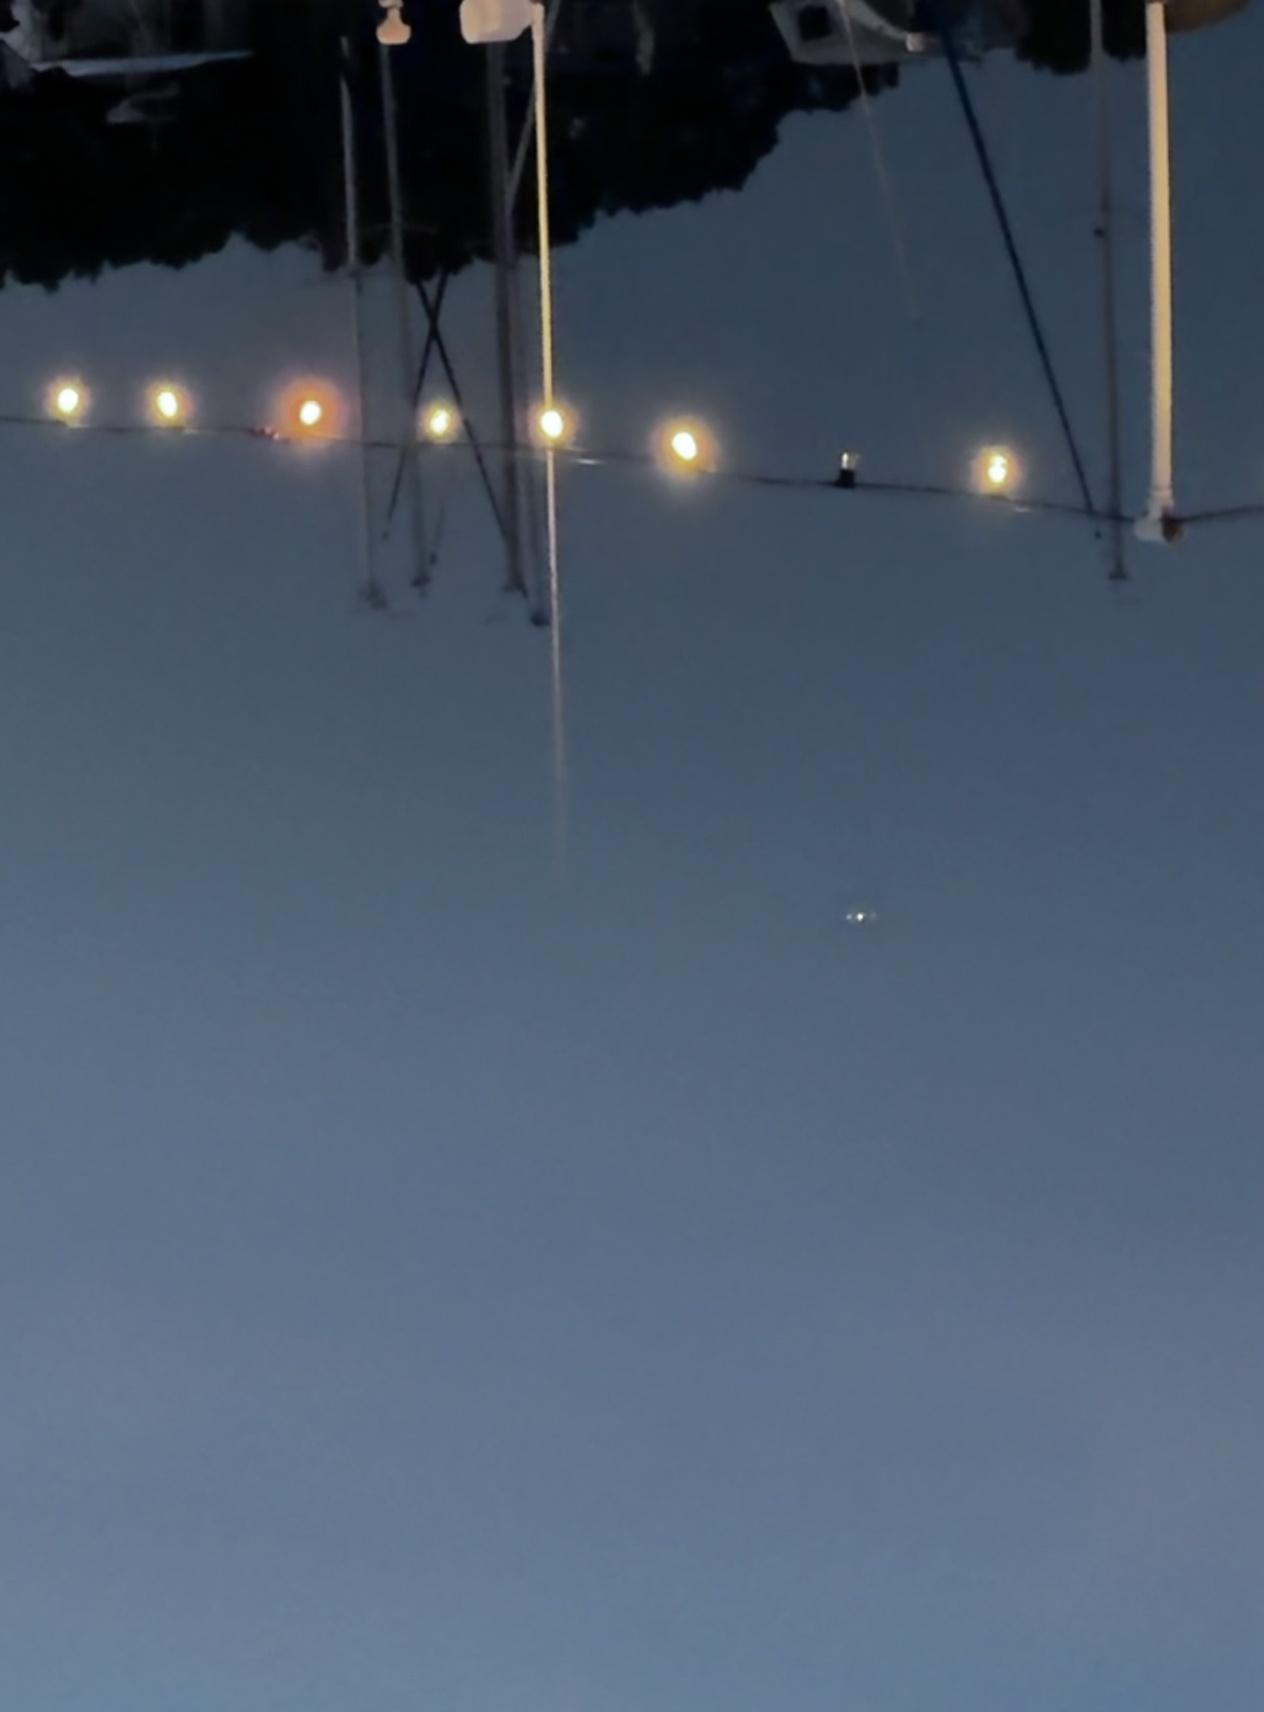Plane: (829, 903, 892, 928)
